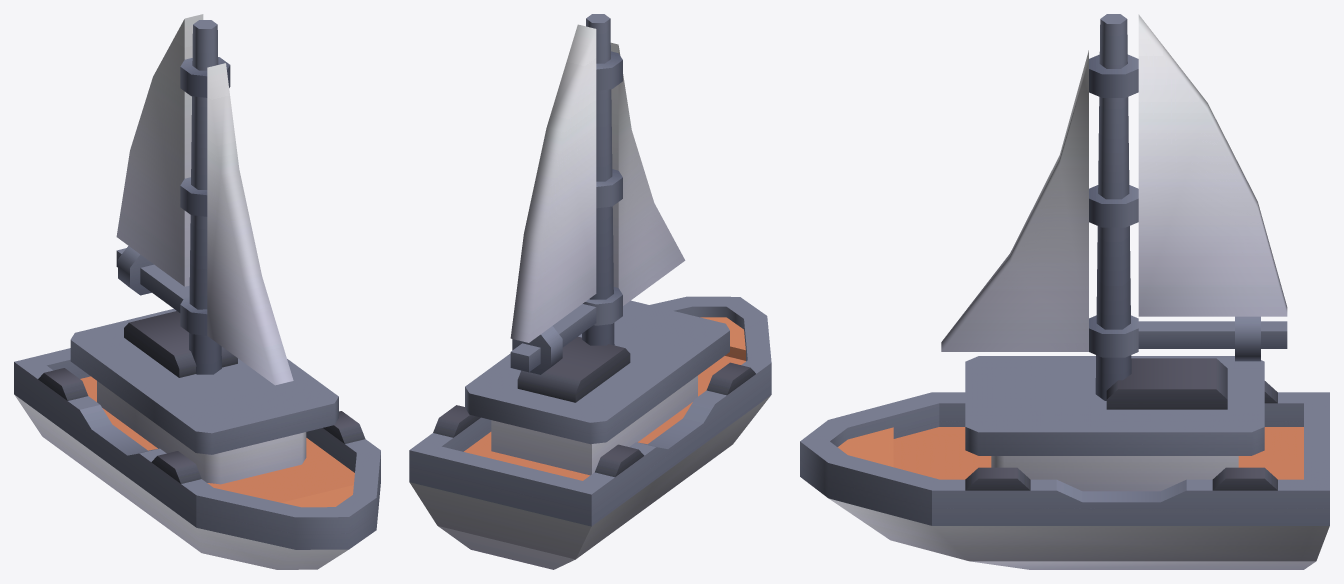
Rendered from boat-sail-b-transformed.glb.
The picture shows the model from 3 angles, left to right: view 1: azimuth 30°, elevation 25°; view 2: azimuth 150°, elevation 25°; view 3: azimuth 270°, elevation 25°; orthographic projection. The views are drawn at different scales.
Parts seen in each view (by area): view 1: boat-sail-b, sail; view 2: boat-sail-b, sail; view 3: boat-sail-b, sail.
Boxes of the visible parts, x1,y1,x2,y2 form: boat-sail-b: (14, 308, 380, 569); sail: (116, 14, 293, 385); boat-sail-b: (409, 296, 771, 569); sail: (510, 14, 685, 374); boat-sail-b: (800, 356, 1329, 569); sail: (941, 14, 1287, 400).
Size of the model in its own units: 1.78 by 4.48 by 4.07.
Materials: 1 (1 with a texture image).
